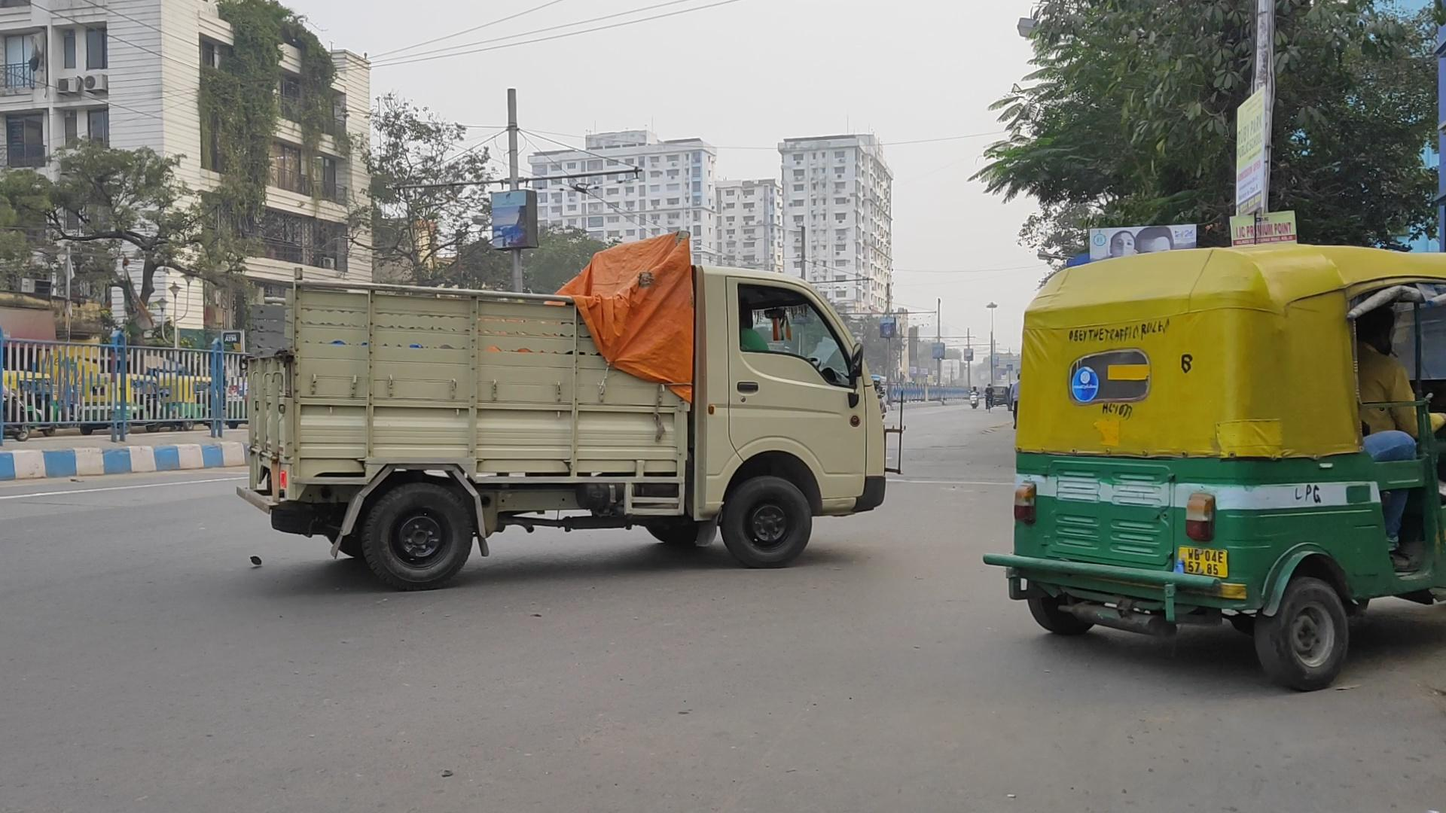Auto: (991, 385, 1010, 407)
bike: (984, 383, 996, 413), (968, 385, 981, 410)
car: (983, 243, 1446, 691)
van: (236, 226, 906, 592)
